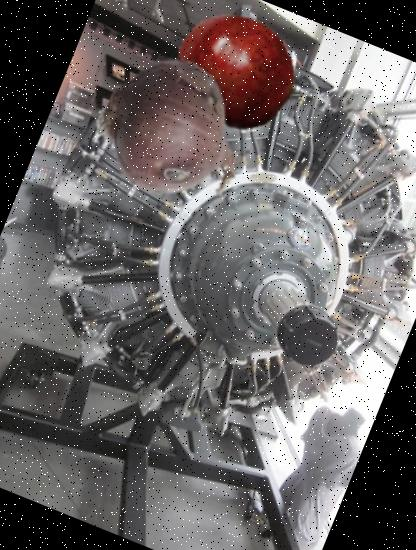Onion: (80, 34, 272, 227)
Pomegranate: (152, 0, 313, 155)
